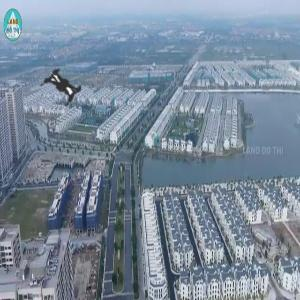drone: (1, 22, 123, 144)
